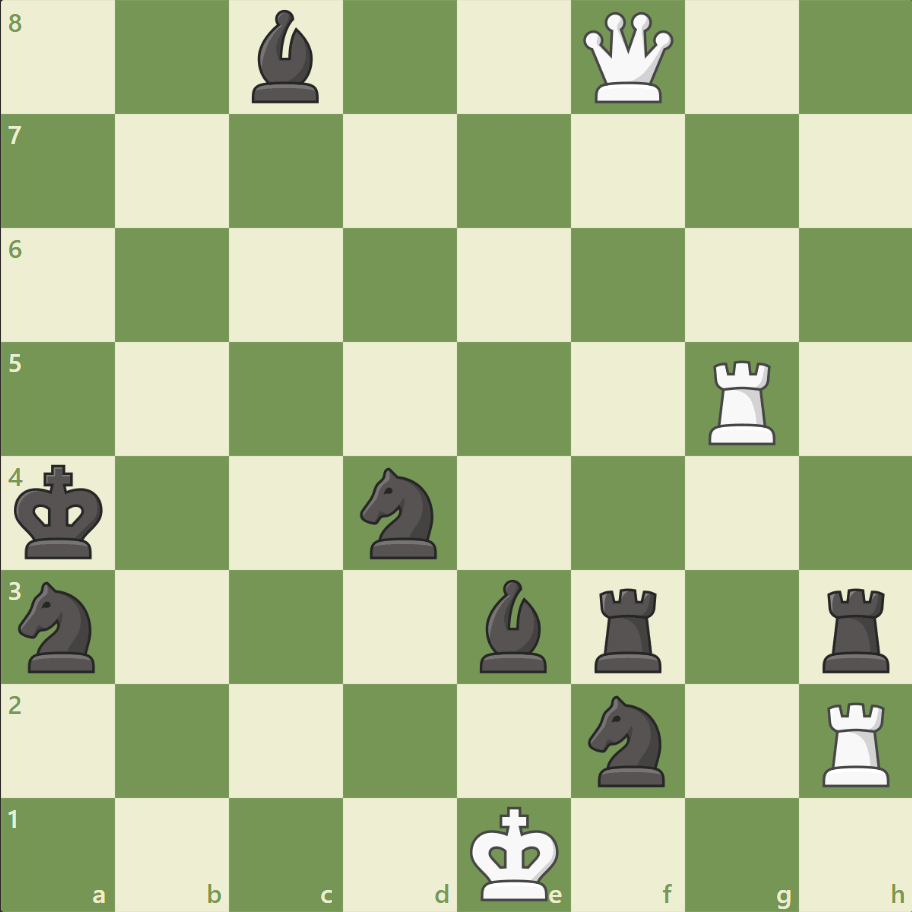K: (465, 798, 565, 906)
Q: (578, 9, 677, 108)
R: (700, 352, 783, 449), (814, 693, 897, 790)
b: (244, 6, 328, 109), (471, 574, 555, 676)
k: (11, 458, 111, 566)
n: (351, 461, 449, 564), (579, 688, 676, 791), (11, 575, 108, 677)
r: (587, 579, 670, 676), (814, 579, 897, 676)
